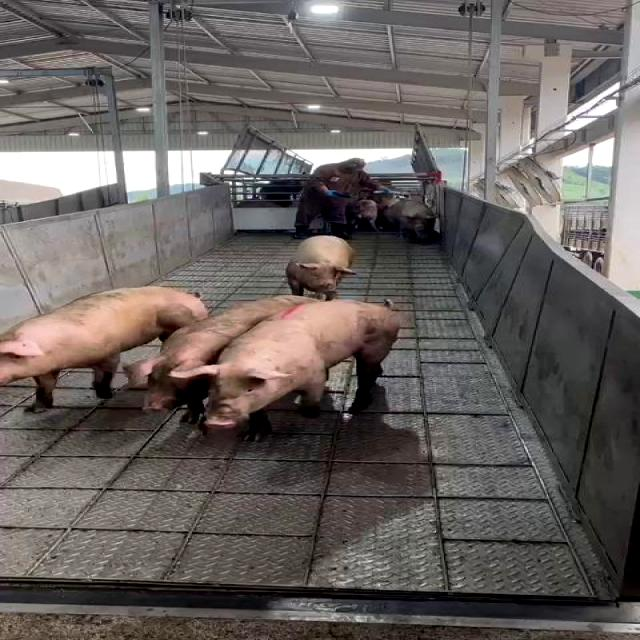pig: (174, 300, 401, 439), (0, 286, 209, 412), (124, 295, 317, 422), (286, 235, 358, 300)
